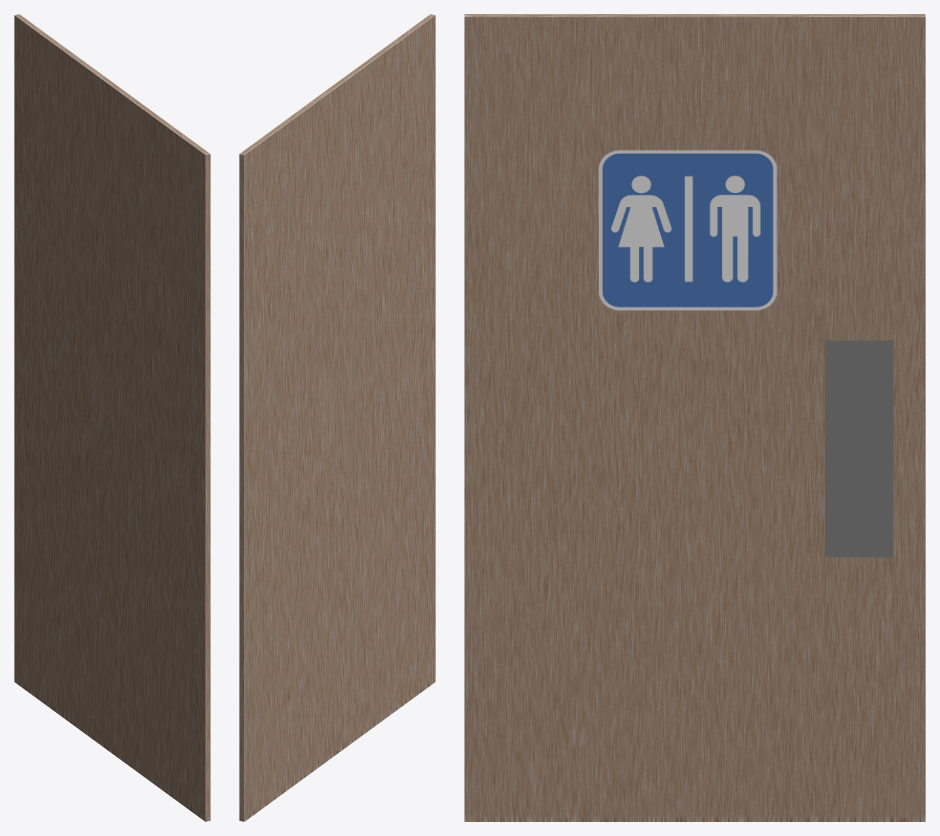
File: BathroomDoor.fbx
The picture shows the model from 3 angles, left to right: view 1: azimuth 30°, elevation 25°; view 2: azimuth 150°, elevation 25°; view 3: azimuth 270°, elevation 25°; orthographic projection. The views are drawn at different scales.
Parts seen in each view (by area): view 1: pPlane2; view 2: pPlane2; view 3: pPlane2.
Part boxes in pixels (left/top/right/bottom): pPlane2: left=14, top=14, right=210, bottom=821; pPlane2: left=239, top=14, right=435, bottom=821; pPlane2: left=464, top=14, right=925, bottom=821.
Size of the model in its own units: 0.2705 by 31.62 by 16.43.
2 materials, 1 textured.
